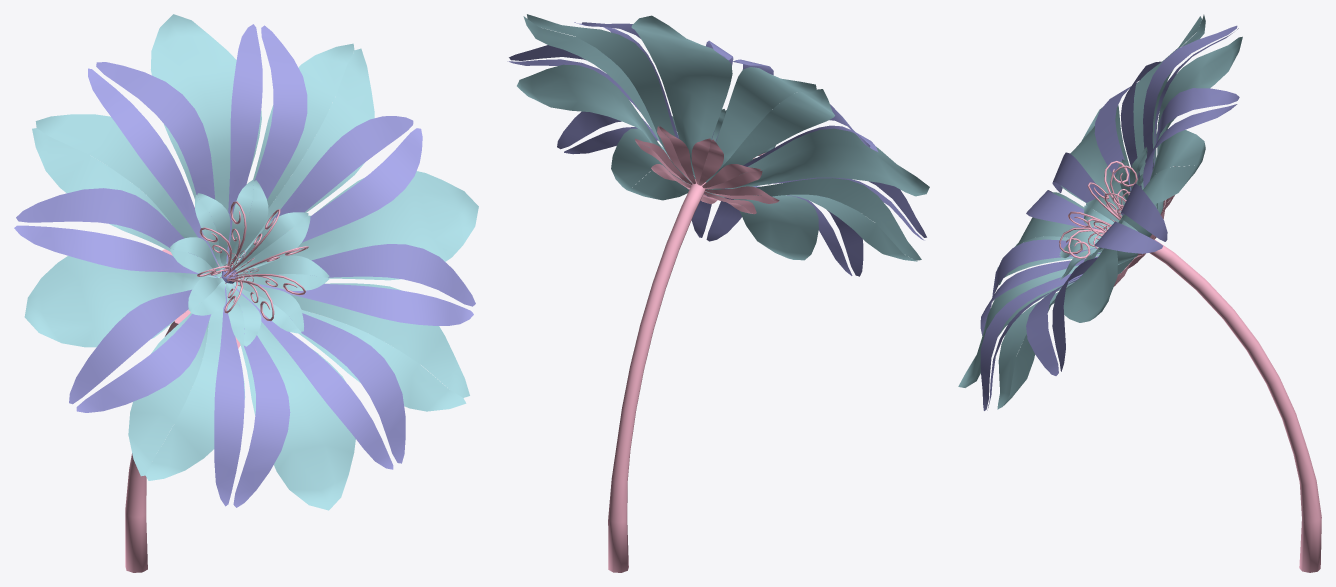
The model's file is tree_small.fbx.
The picture shows the model from 3 angles, left to right: view 1: azimuth 30°, elevation 25°; view 2: azimuth 150°, elevation 25°; view 3: azimuth 270°, elevation 25°; orthographic projection. The views are drawn at different scales.
Parts seen in each view (by area): view 1: Tree_Flower_Small; view 2: Tree_Flower_Small; view 3: Tree_Flower_Small.
Part boxes in pixels (left/top/right/bottom): Tree_Flower_Small: left=14, top=14, right=478, bottom=572; Tree_Flower_Small: left=507, top=14, right=929, bottom=572; Tree_Flower_Small: left=958, top=14, right=1321, bottom=572.
Size of the model in its own units: 564 by 690 by 428.
